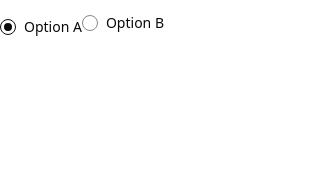
Test: Radio › switches selection in a group
Expected: the radio button labelled "Option A" is checked, [0, 16, 82, 37]
What coordinates should you click on to do the following:
click the radio button labelled "Option B"
I would click on:
 (123, 22)
Its box is [82, 12, 164, 33].
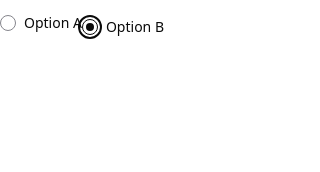
Expected: the radio button labelled "Option B" is checked, [82, 16, 164, 37]
Expected: the radio button labelled "Option A" is not checked, [0, 12, 82, 33]
